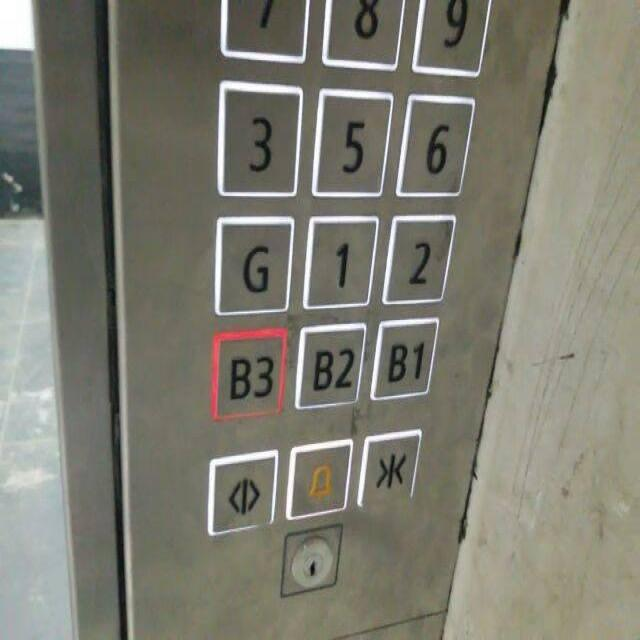1: (298, 211, 378, 309)
2: (379, 211, 457, 304)
3: (216, 80, 301, 196)
5: (311, 88, 393, 197)
6: (396, 93, 474, 199)
9: (411, 0, 492, 76)
B1: (367, 312, 441, 400)
B2: (293, 319, 367, 408)
B3: (211, 328, 285, 419)
G: (211, 211, 294, 316)
alarm: (285, 437, 351, 519)
bt_keyhole: (281, 523, 342, 597)
close: (356, 428, 420, 505)
open: (206, 448, 279, 535)
